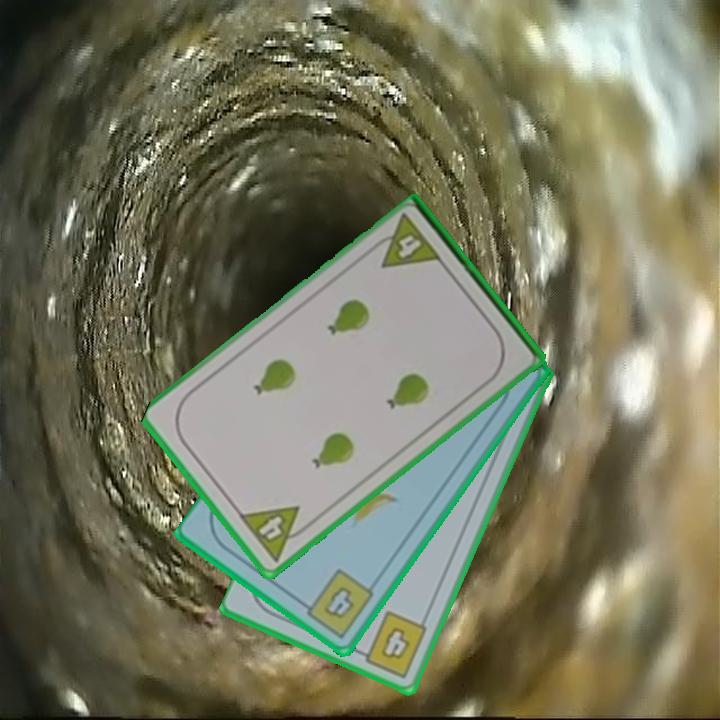4b: (296, 565, 378, 642), (353, 607, 431, 681)
4p: (235, 502, 315, 565), (366, 211, 445, 272)
